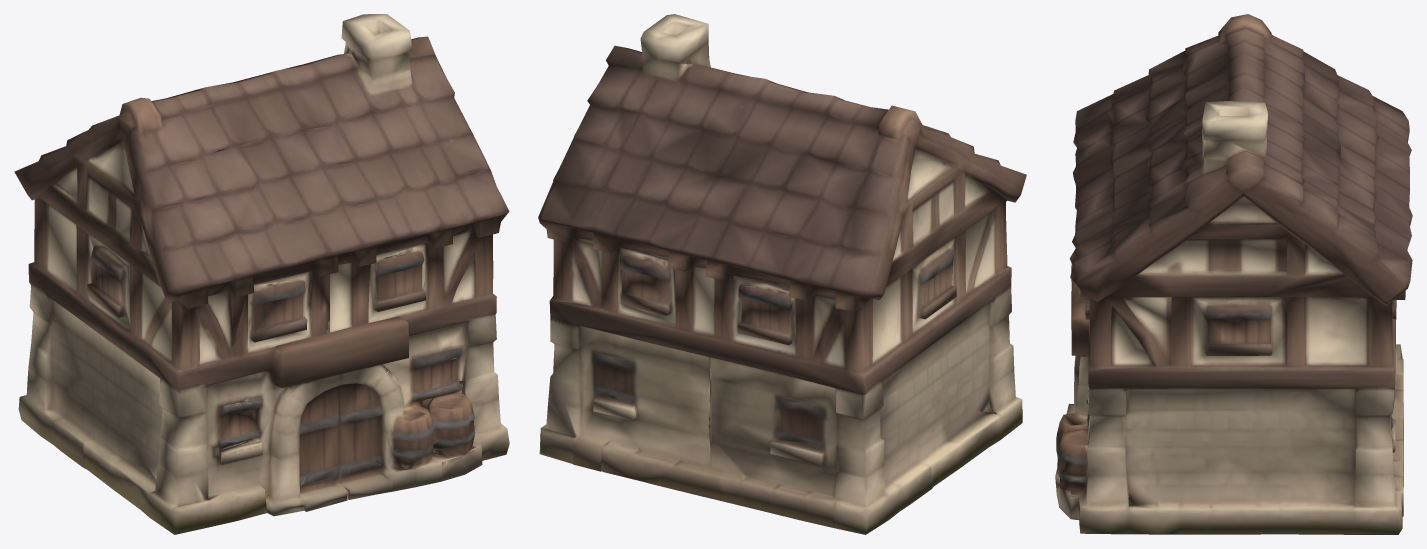
File: tavern.glb
3 views of the same model, side by side, from view 1: azimuth 30°, elevation 25°; view 2: azimuth 150°, elevation 25°; view 3: azimuth 270°, elevation 25° (orthographic). The views are drawn at different scales.
Parts seen in each view (by area): view 1: geometry_0.001; view 2: geometry_0.001; view 3: geometry_0.001.
Part boxes in pixels (<box>): geometry_0.001: <box>14,14,509,534</box>; geometry_0.001: <box>538,14,1026,534</box>; geometry_0.001: <box>1055,14,1412,534</box>.
Size of the model in its own units: 1.83 by 1.99 by 1.63.
1 material, 1 textured.
